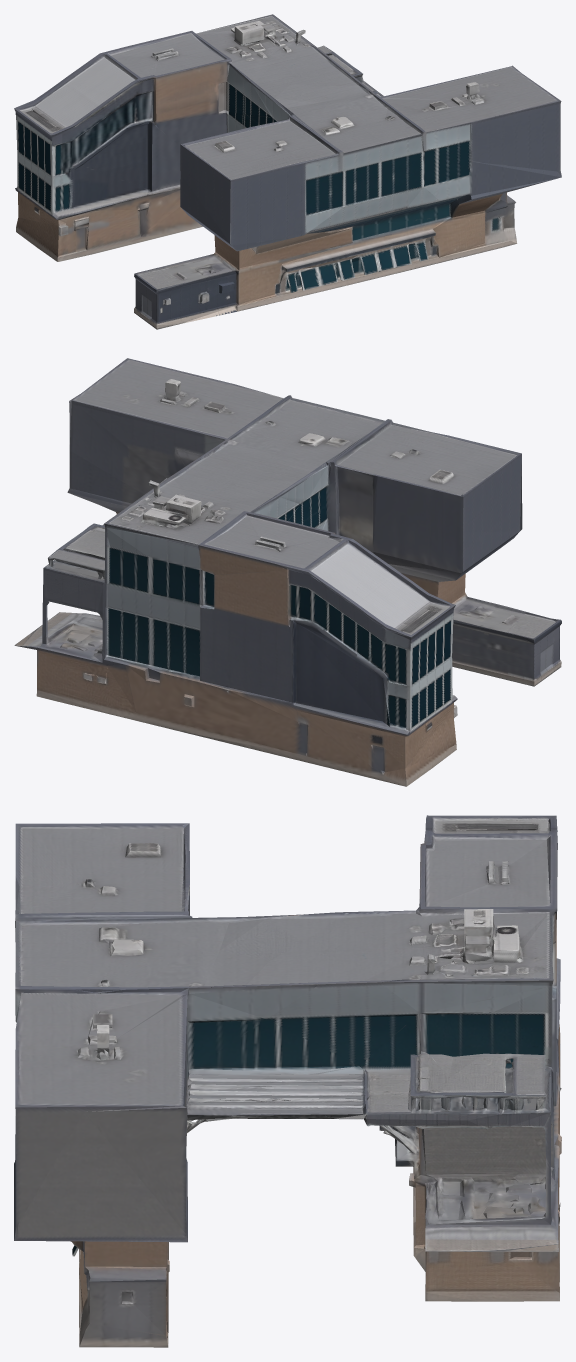
The model's file is A14_CrossbridgeBuilding.fbx.
3 renders of one model, top to bottom at view 1: azimuth 30°, elevation 25°; view 2: azimuth 150°, elevation 25°; view 3: azimuth 270°, elevation 25°, orthographic. The views are drawn at different scales.
Visible parts, largest first — view 1: A14_CrossbridgeBuilding; view 2: A14_CrossbridgeBuilding; view 3: A14_CrossbridgeBuilding.
Part boxes in pixels (x1=…): A14_CrossbridgeBuilding: x1=14, y1=14, x2=561, y2=329; A14_CrossbridgeBuilding: x1=14, y1=358, x2=561, y2=786; A14_CrossbridgeBuilding: x1=14, y1=815, x2=561, y2=1347.
Size of the model in its own units: 3457 by 1442 by 2383.
1 material, 1 textured.
